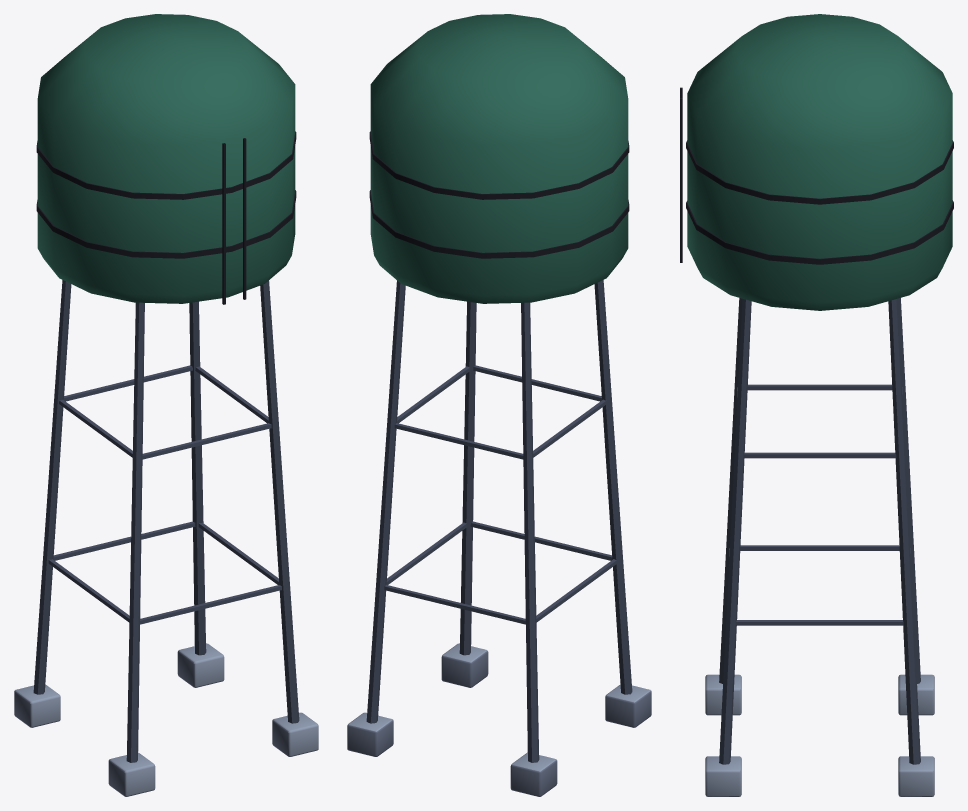
File: WaterTower.fbx
3 views of the same model, side by side, from view 1: azimuth 30°, elevation 25°; view 2: azimuth 150°, elevation 25°; view 3: azimuth 270°, elevation 25° (orthographic). The views are drawn at different scales.
Parts seen in each view (by area): view 1: WaterTower; view 2: WaterTower; view 3: WaterTower.
Part boxes in pixels (box(x1,y1,x2,y2)): WaterTower: box(14, 14, 318, 796); WaterTower: box(347, 14, 651, 796); WaterTower: box(680, 14, 953, 796).
Bounding box in the file's own units: 4.44 × 13.01 × 4.54.
1 material, 1 textured.
